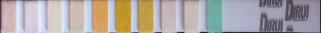color 1: (2, 2, 13, 31)
color 10: (208, 2, 220, 29)
color 2: (26, 3, 37, 30)
color 3: (49, 2, 60, 31)
color 4: (71, 3, 82, 30)
color 5: (94, 1, 106, 30)
color 6: (117, 2, 129, 30)
color 7: (140, 2, 152, 31)
color 8: (163, 2, 174, 30)
color 9: (185, 2, 197, 30)
